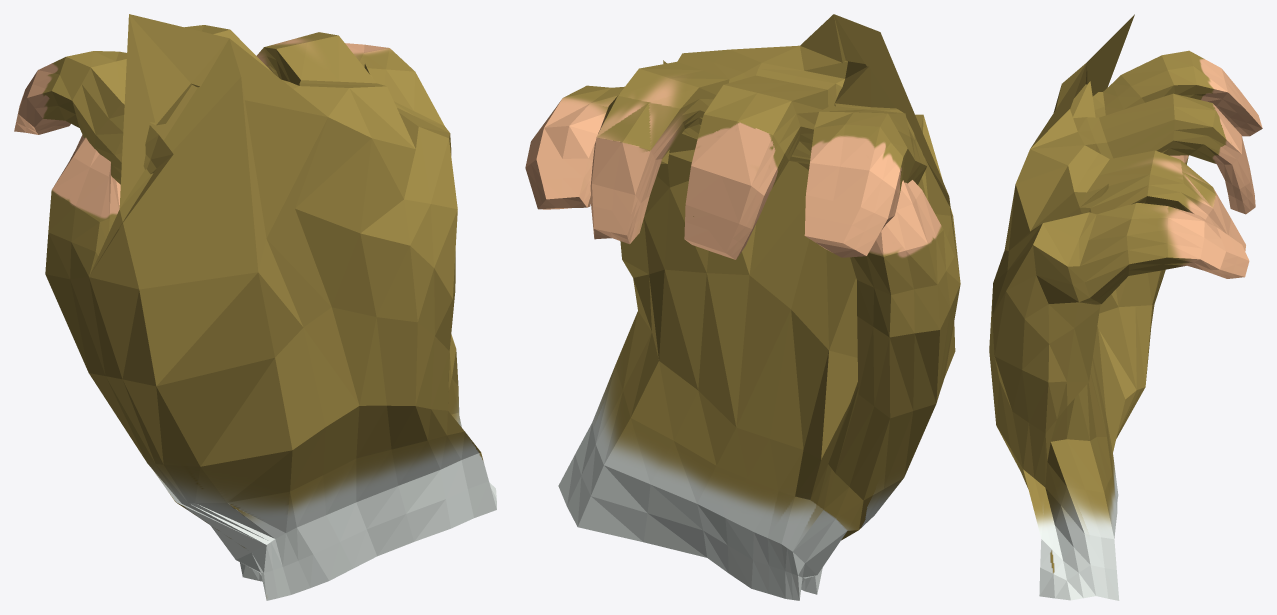
The model's file is grip0055.obj.
The picture shows the model from 3 angles, left to right: view 1: azimuth 30°, elevation 25°; view 2: azimuth 150°, elevation 25°; view 3: azimuth 270°, elevation 25°; orthographic projection. The views are drawn at different scales.
Parts seen in each view (by area): view 1: Hand; view 2: Hand; view 3: Hand.
Boxes of the visible parts, x1,y1,x2,y2 form: Hand: (14,14,496,600); Hand: (525,14,960,600); Hand: (989,14,1262,600).
Size of the model in its own units: 2.76 by 3.84 by 1.92.
